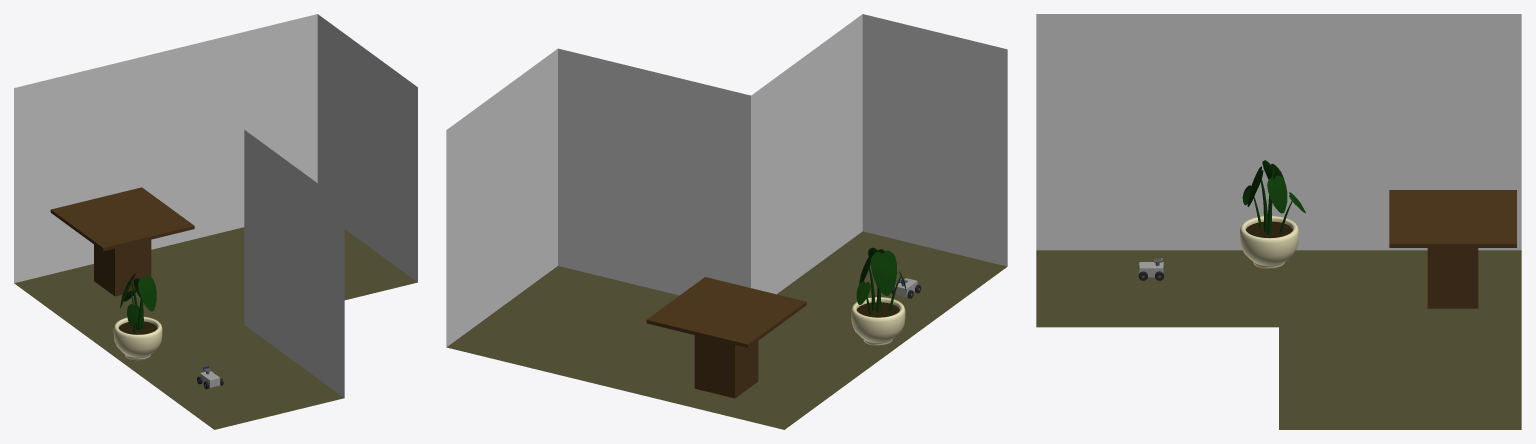
Rendered from scenario.glb.
3 renders of one model, left to right at view 1: azimuth 30°, elevation 25°; view 2: azimuth 150°, elevation 25°; view 3: azimuth 270°, elevation 25°, orthographic. The views are drawn at different scales.
Parts seen in each view (by area): view 1: Walls, Table, Vase; view 2: Walls, Table, Vase; view 3: Walls, Table, Vase, Robot.
Boxes of the visible parts, bbox=[...] form: Walls: bbox=[14, 14, 417, 429]; Table: bbox=[50, 187, 194, 296]; Vase: bbox=[113, 273, 162, 360]; Walls: bbox=[446, 14, 1007, 429]; Table: bbox=[646, 277, 806, 398]; Vase: bbox=[851, 247, 906, 345]; Walls: bbox=[1036, 14, 1521, 429]; Table: bbox=[1389, 190, 1516, 308]; Vase: bbox=[1240, 160, 1305, 268]; Robot: bbox=[1138, 257, 1164, 280].
Bounding box in the file's own units: 3.51 × 2.15 × 4.
